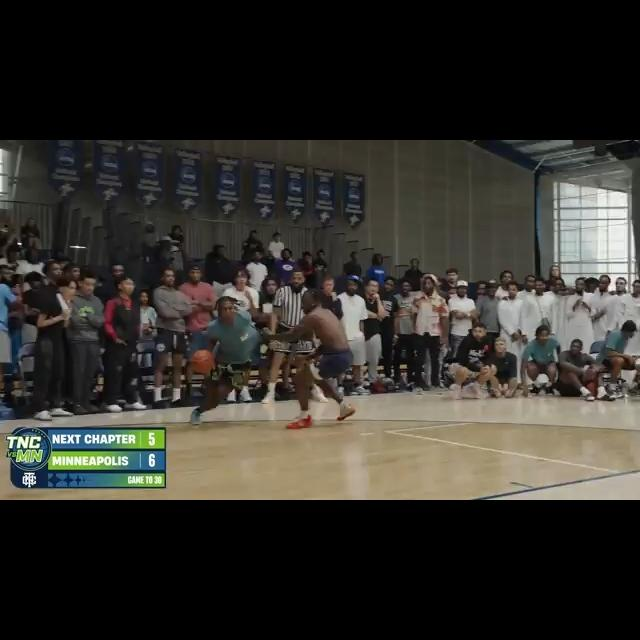basketball: (192, 349, 214, 371)
